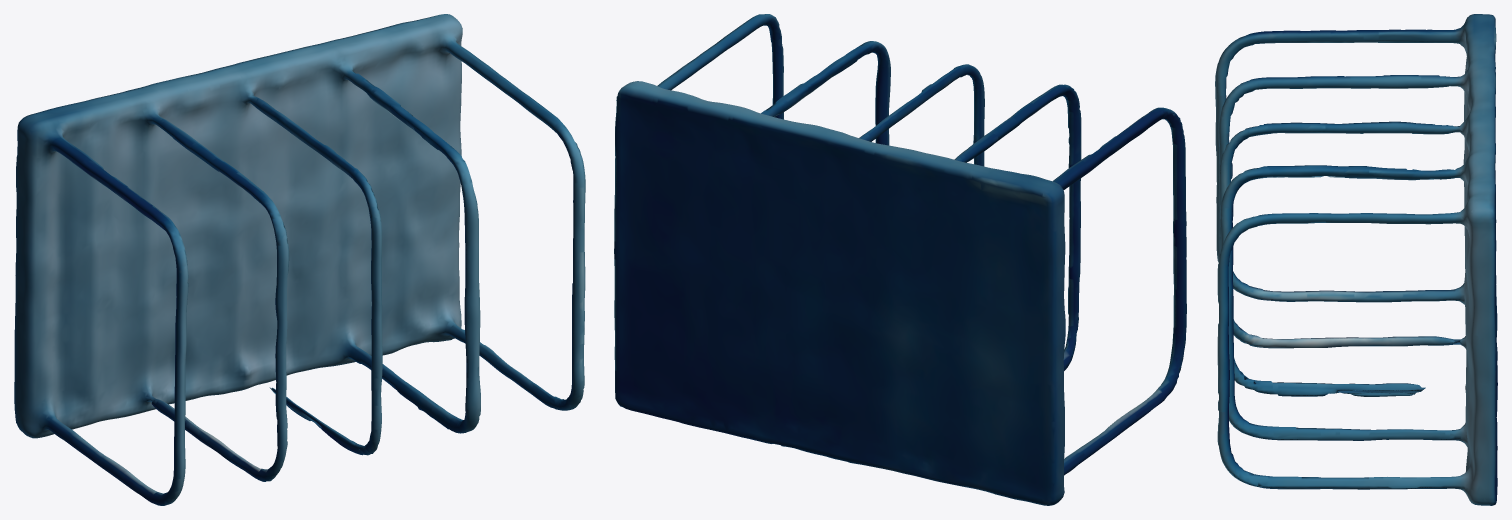
File: sorter.glb
3 renders of one model, left to right at view 1: azimuth 30°, elevation 25°; view 2: azimuth 150°, elevation 25°; view 3: azimuth 270°, elevation 25°, orthographic. The views are drawn at different scales.
Bounding box in the file's own units: 0.999 × 0.6955 × 0.5907.
